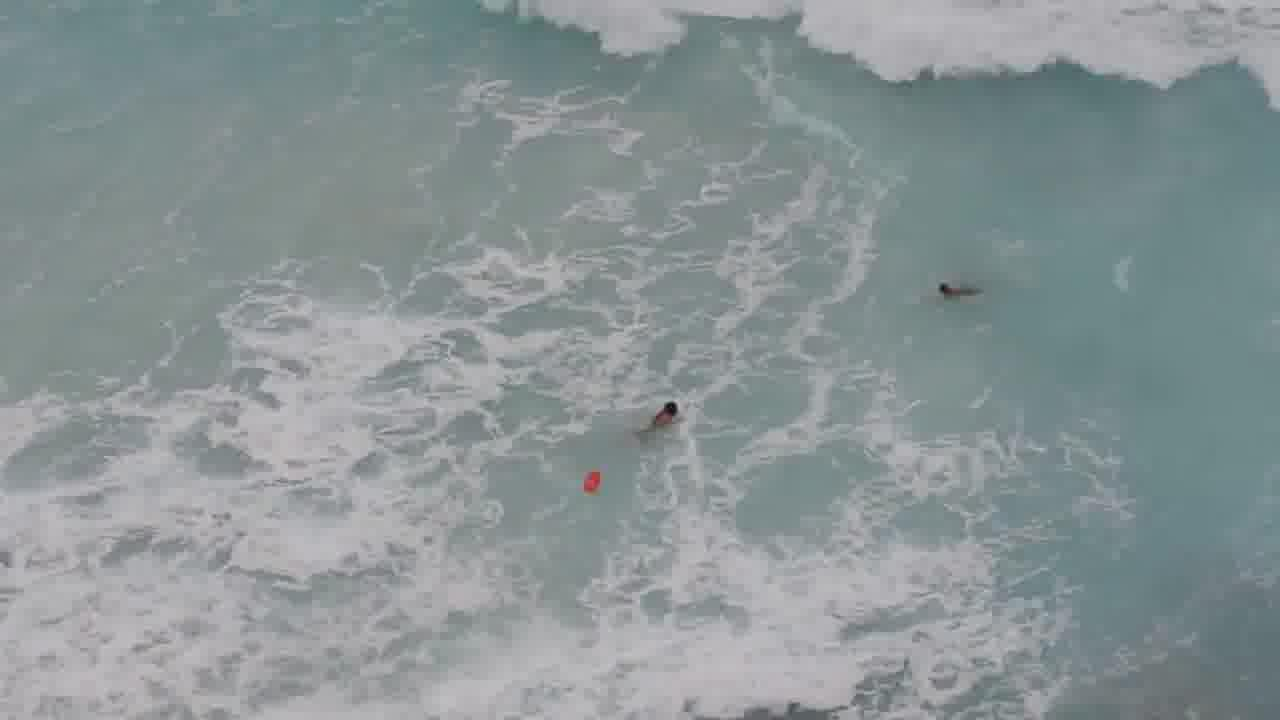swimmer: (638, 388, 697, 441), (926, 269, 985, 307)
